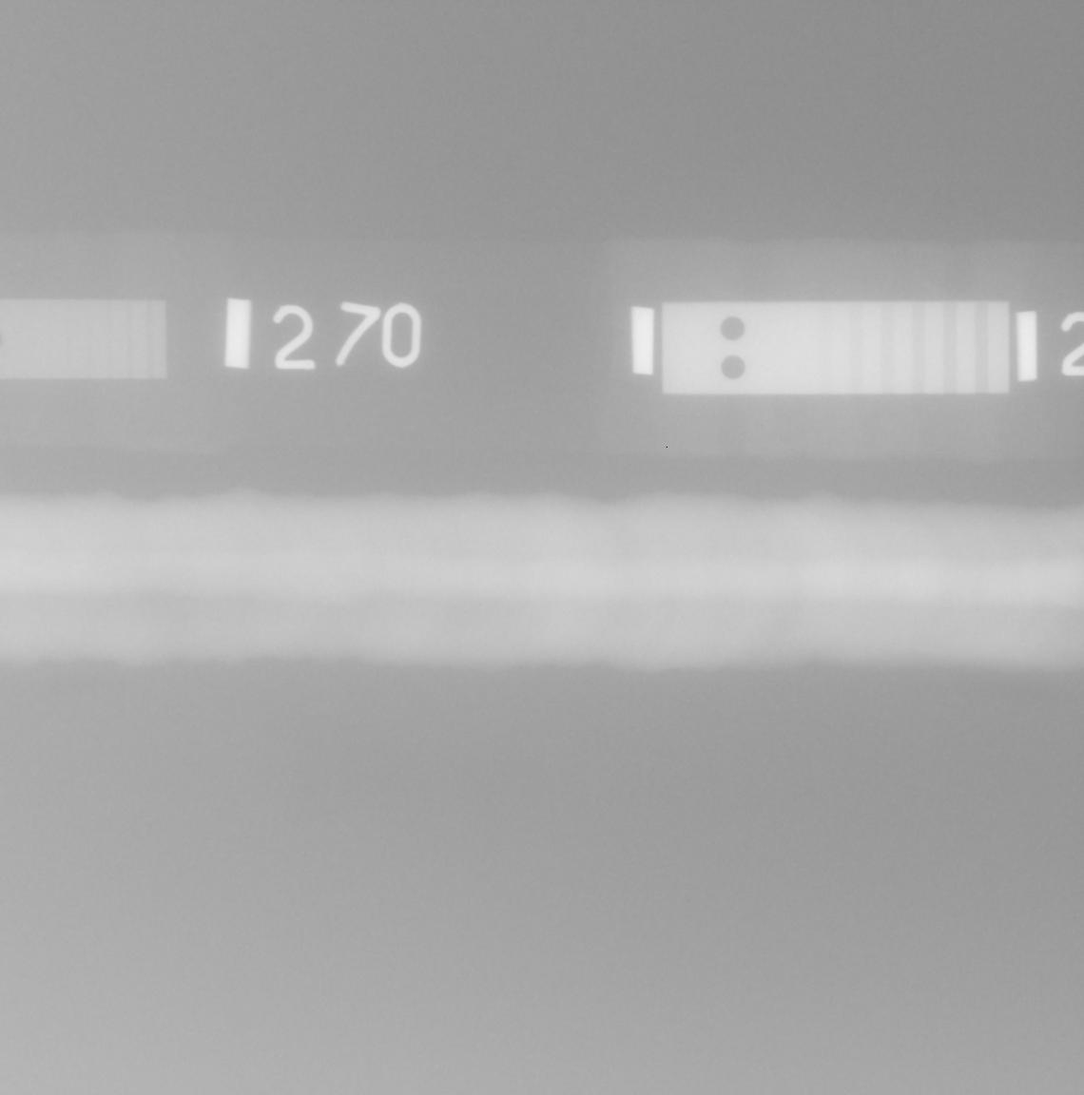Reference Standard 2: (662, 301, 1009, 395)
